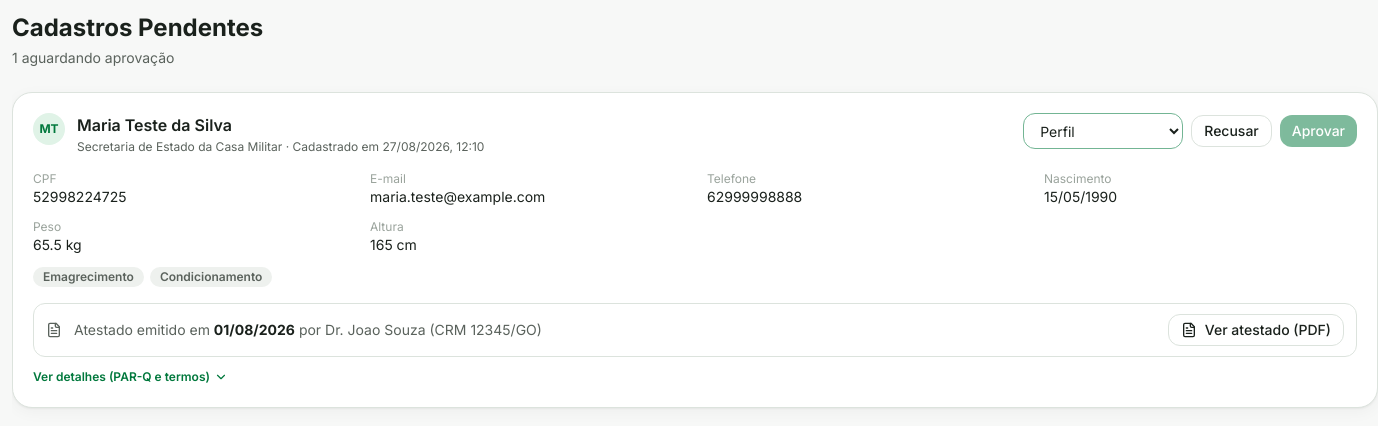
Test: PendingRegistrations - aprovar › aprova como aluno com a categoria escolhida e o item some da lista
The image size is (1378, 426).
Check: the text "Maria Teste da Silva" is shown, box [77, 113, 232, 137]
Select "Aluno · Militar" in the dropdown named "Perfil": point(1103, 131) [1023, 113, 1183, 149]
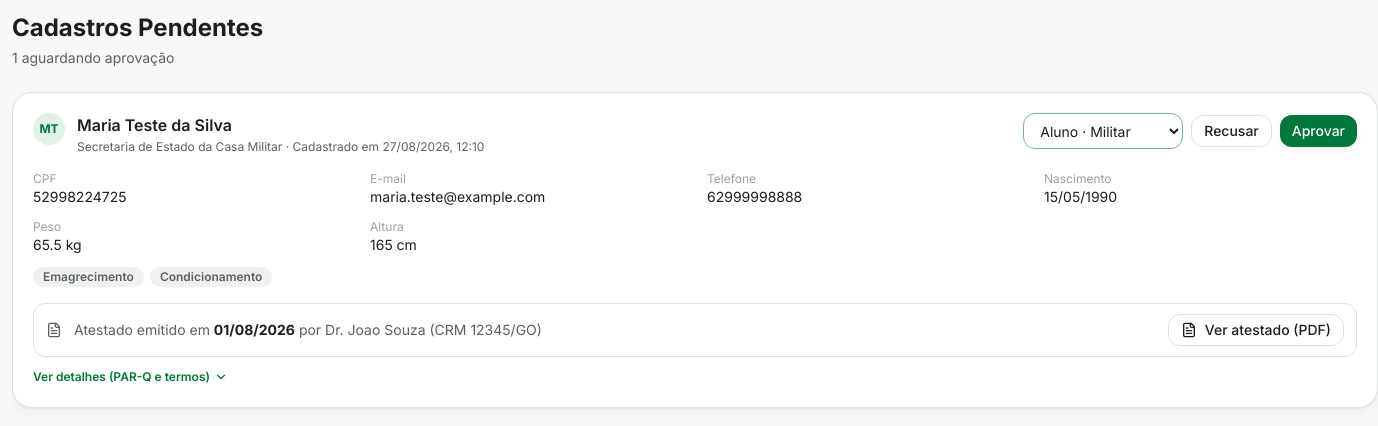
Click the button "Aprovar": point(1318, 131) [1280, 115, 1357, 147]
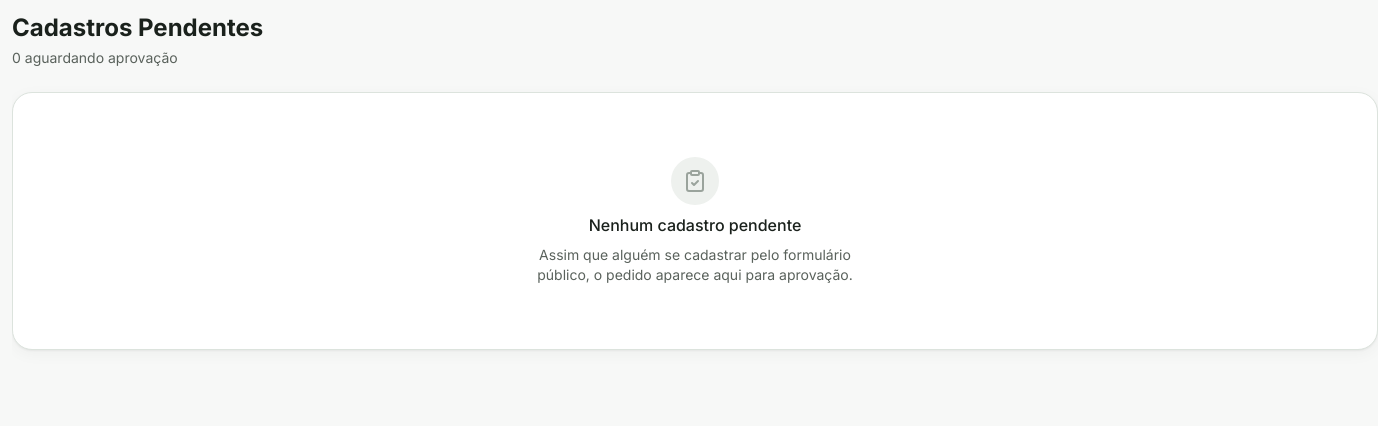
Check: the text "Maria Teste da Silva" is gone
Check: the text "Nenhum cadastro pendente" is shown, box [589, 213, 801, 237]
